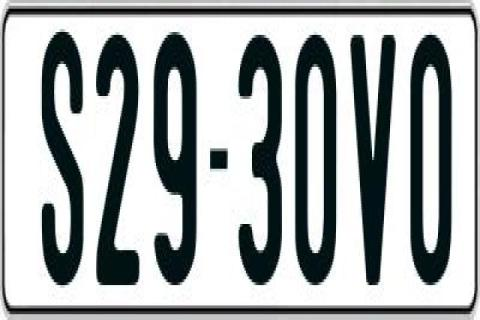0: (96, 26, 144, 288), (292, 26, 336, 288), (150, 27, 194, 280), (240, 29, 284, 282), (410, 35, 451, 294)
S: (42, 29, 84, 297)
V: (348, 32, 400, 285)
